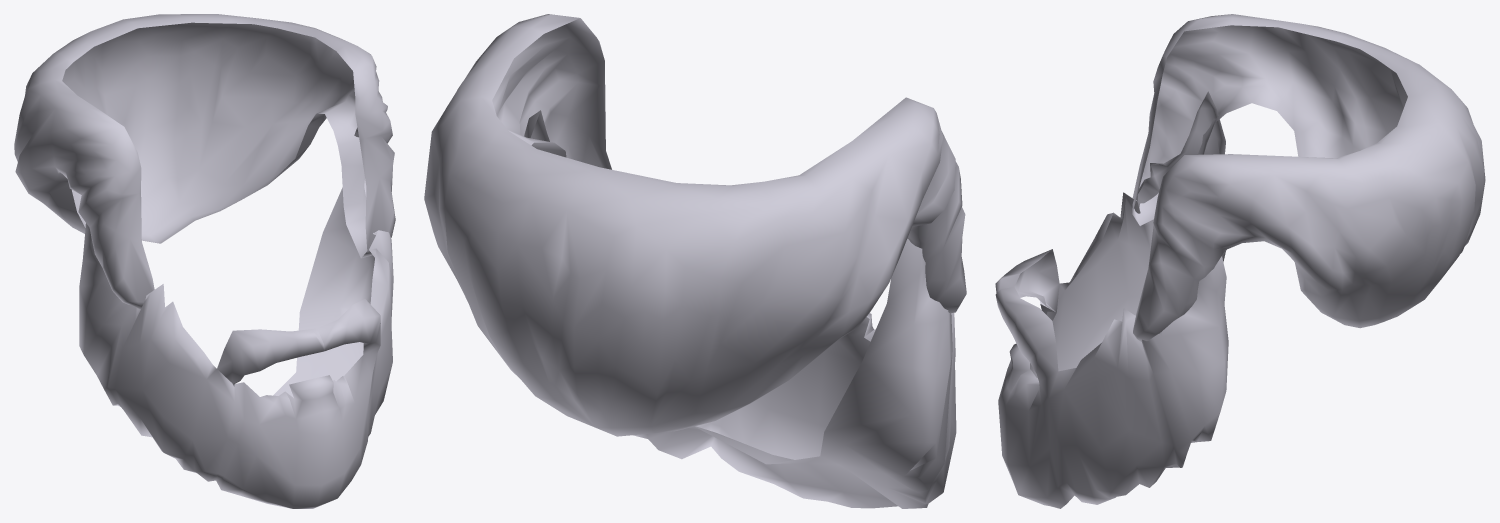
Rendered from man-beard.glb.
The picture shows the model from 3 angles, left to right: view 1: azimuth 30°, elevation 25°; view 2: azimuth 150°, elevation 25°; view 3: azimuth 270°, elevation 25°; orthographic projection. The views are drawn at different scales.
Parts seen in each view (by area): view 1: 1; view 2: 1; view 3: 1.
Part boxes in pixels (box(x1,y1,x2,y2)): 1: box(14, 14, 395, 508); 1: box(424, 14, 966, 508); 1: box(995, 14, 1485, 508).
Size of the model in its own units: 0.1807 by 0.1959 by 0.2129.
2 materials, 2 textured.
